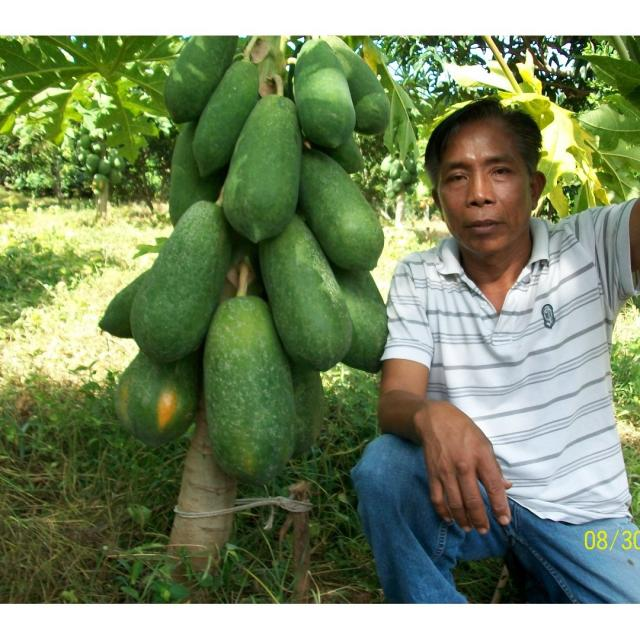Pepaya unrippen: (202, 293, 289, 478), (129, 199, 228, 356), (223, 89, 298, 248), (273, 239, 344, 366), (110, 352, 203, 446), (289, 37, 361, 152), (306, 163, 380, 271), (196, 57, 259, 175), (158, 34, 229, 128), (336, 41, 400, 143), (153, 127, 216, 225), (347, 280, 385, 375)
